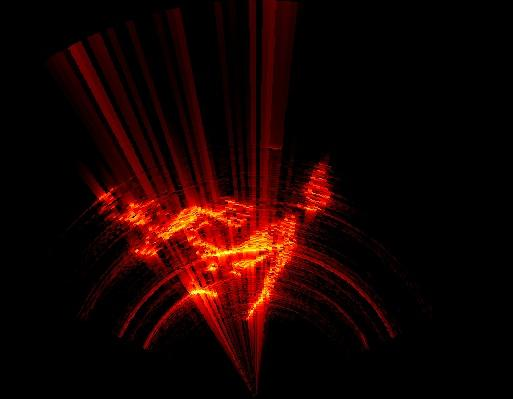shipwreck: (187, 215, 296, 319), (122, 204, 227, 254), (306, 188, 325, 214), (188, 283, 216, 296)
